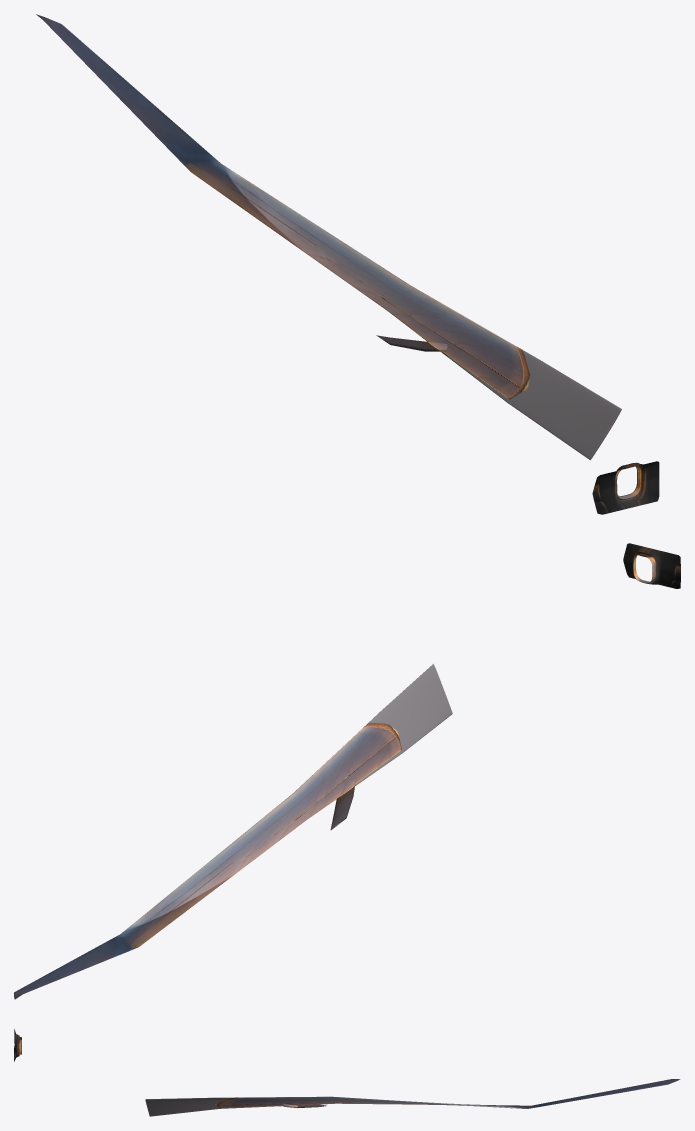
The model's file is cabine.glb.
3 renders of one model, top to bottom at view 1: azimuth 30°, elevation 25°; view 2: azimuth 150°, elevation 25°; view 3: azimuth 270°, elevation 25°, orthographic. The views are drawn at different scales.
Parts seen in each view (by area): view 1: Aile et winglet, Paroi et cadre moulé; view 2: Aile et winglet, Paroi et cadre moulé; view 3: Aile et winglet, Paroi et cadre moulé.
Part boxes in pixels (x1,y1,x2,y2): Aile et winglet: (36,14,621,460); Paroi et cadre moulé: (592,461,659,514); Aile et winglet: (14,664,452,999); Paroi et cadre moulé: (623,543,680,588); Aile et winglet: (145,1079,680,1116); Paroi et cadre moulé: (14,1029,21,1061).
Bounding box in the file's own units: 2.2 × 1.54 × 16.07.
Materials: 2 (2 with a texture image).
